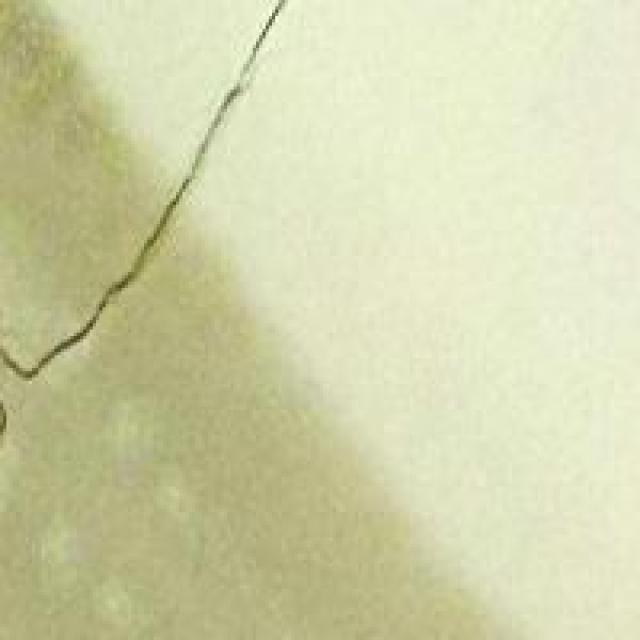crack: (9, 13, 300, 461)
